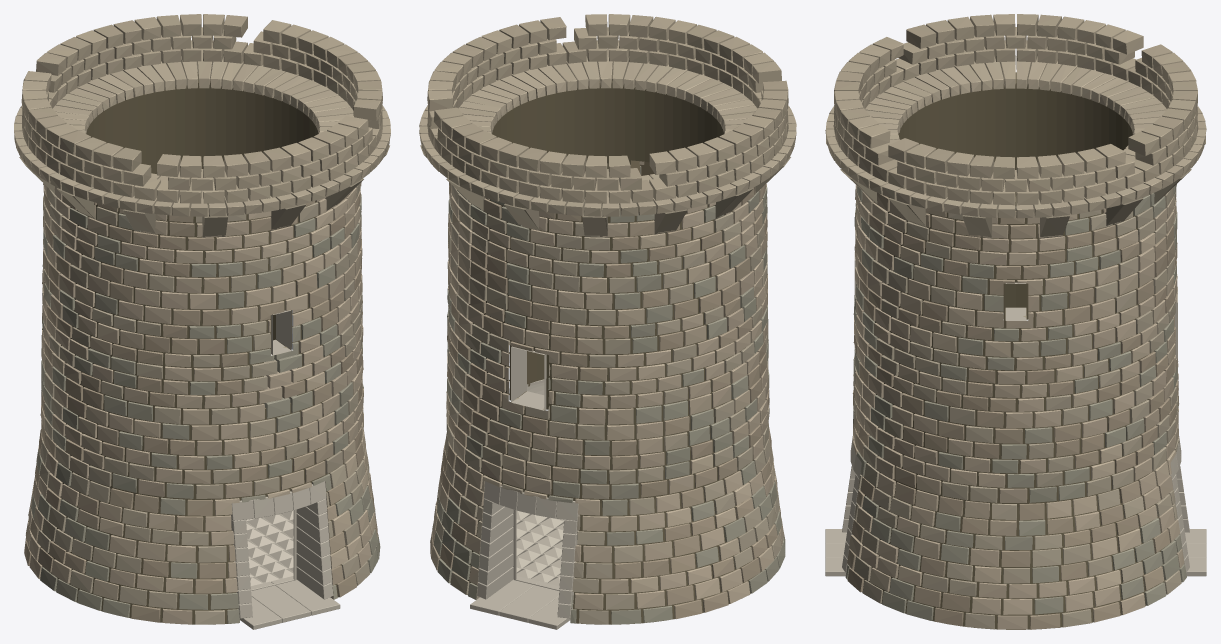
The model's file is Tour_V6_LOD1.fbx.
3 views of the same model, side by side, from view 1: azimuth 30°, elevation 25°; view 2: azimuth 150°, elevation 25°; view 3: azimuth 270°, elevation 25° (orthographic).
Visible parts, largest first — view 1: V6_Distance1_V6_Fut_Granit_Exterieur, V6_Distance1_V6_Couronnement_Consoles, V6_Distance1_V6_Chaux_Coeur_Murs, V6_Distance1_V6_Embrasures_Linteaux_Seuils, V6_Distance1_V6_Dalles_Patine, V6_Distance1_V6_Embrasures_Fenetres_Traversantes; view 2: V6_Distance1_V6_Fut_Granit_Exterieur, V6_Distance1_V6_Couronnement_Consoles, V6_Distance1_V6_Chaux_Coeur_Murs, V6_Distance1_V6_Embrasures_Linteaux_Seuils, V6_Distance1_V6_Dalles_Patine, V6_Distance1_V6_Embrasures_Fenetres_Traversantes; view 3: V6_Distance1_V6_Fut_Granit_Exterieur, V6_Distance1_V6_Couronnement_Consoles, V6_Distance1_V6_Chaux_Coeur_Murs, V6_Distance1_V6_Embrasures_Linteaux_Seuils, V6_Distance1_V6_Embrasures_Fenetres_Traversantes.
Boxes of the visible parts, x1,y1,x2,y2 form: V6_Distance1_V6_Fut_Granit_Exterieur: (24, 182, 380, 624); V6_Distance1_V6_Couronnement_Consoles: (14, 14, 390, 237); V6_Distance1_V6_Chaux_Coeur_Murs: (40, 72, 367, 624); V6_Distance1_V6_Embrasures_Linteaux_Seuils: (231, 481, 340, 629); V6_Distance1_V6_Dalles_Patine: (246, 510, 293, 585); V6_Distance1_V6_Embrasures_Fenetres_Traversantes: (271, 310, 291, 355); V6_Distance1_V6_Fut_Granit_Exterieur: (430, 161, 785, 624); V6_Distance1_V6_Couronnement_Consoles: (419, 14, 796, 237); V6_Distance1_V6_Chaux_Coeur_Murs: (445, 72, 767, 624); V6_Distance1_V6_Embrasures_Linteaux_Seuils: (470, 481, 579, 629); V6_Distance1_V6_Dalles_Patine: (516, 510, 564, 586); V6_Distance1_V6_Embrasures_Fenetres_Traversantes: (511, 346, 546, 410); V6_Distance1_V6_Fut_Granit_Exterieur: (845, 184, 1186, 629); V6_Distance1_V6_Couronnement_Consoles: (825, 14, 1206, 238); V6_Distance1_V6_Chaux_Coeur_Murs: (859, 72, 1176, 629); V6_Distance1_V6_Embrasures_Linteaux_Seuils: (825, 436, 1206, 576); V6_Distance1_V6_Embrasures_Fenetres_Traversantes: (854, 252, 1177, 358).
Bounding box in the file's own units: 900 × 1214 × 900.
